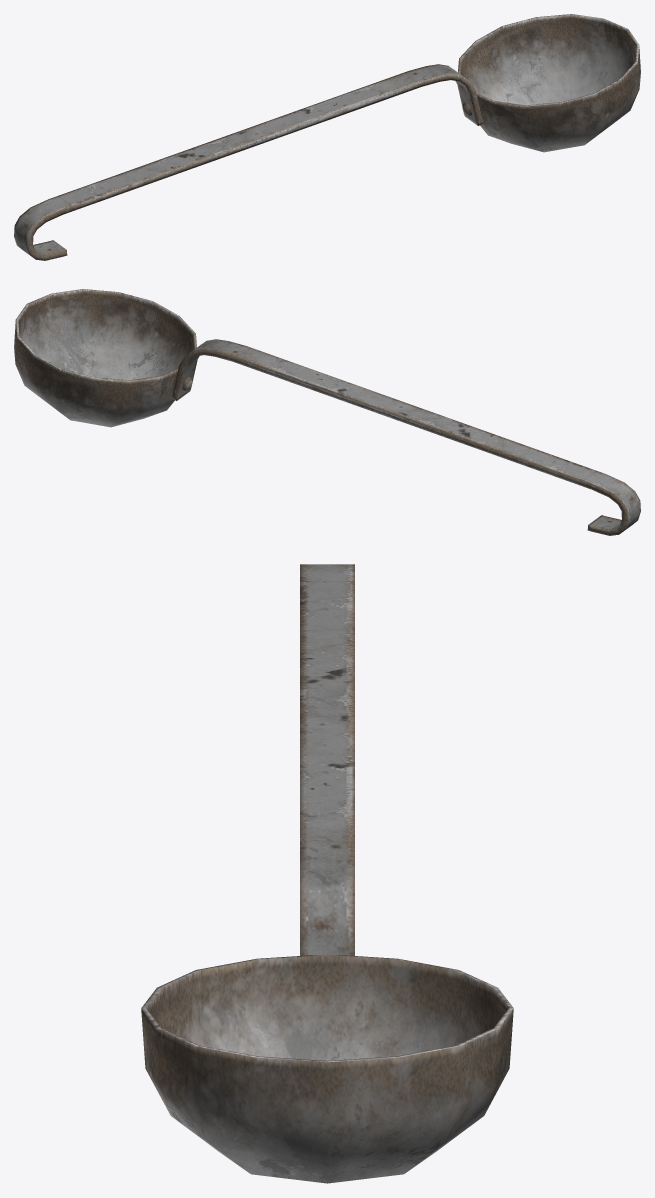
File: SM_Kitchenware02_1_LOD0.glb
The picture shows the model from 3 angles, top to bottom: view 1: azimuth 30°, elevation 25°; view 2: azimuth 150°, elevation 25°; view 3: azimuth 270°, elevation 25°; orthographic projection. The views are drawn at different scales.
Parts seen in each view (by area): view 1: SM_Kitchenware02_1_LOD0; view 2: SM_Kitchenware02_1_LOD0; view 3: SM_Kitchenware02_1_LOD0.
Boxes of the visible parts, left/top/right/bottom form: SM_Kitchenware02_1_LOD0: left=14, top=14, right=640, bottom=260; SM_Kitchenware02_1_LOD0: left=14, top=289, right=640, bottom=535; SM_Kitchenware02_1_LOD0: left=141, top=564, right=513, bottom=1183.
Bounding box in the file's own units: 0.4664 × 0.0672 × 0.1235.
Materials: 1 (1 with a texture image).
